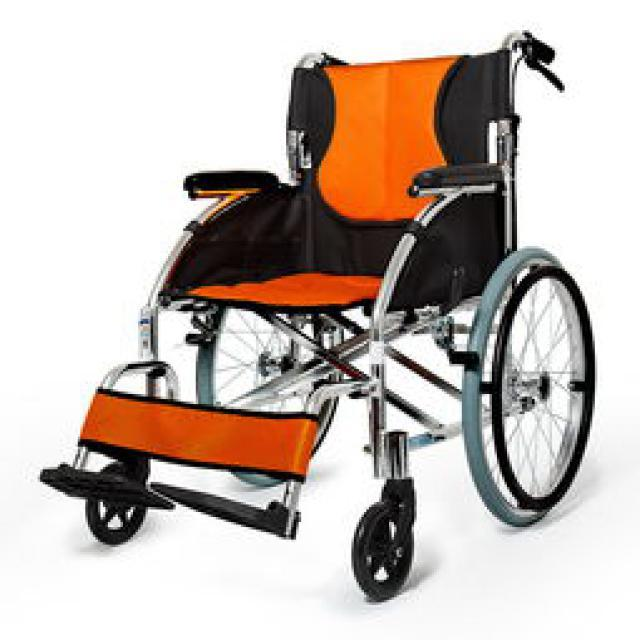wheelchair: (32, 22, 598, 608)
